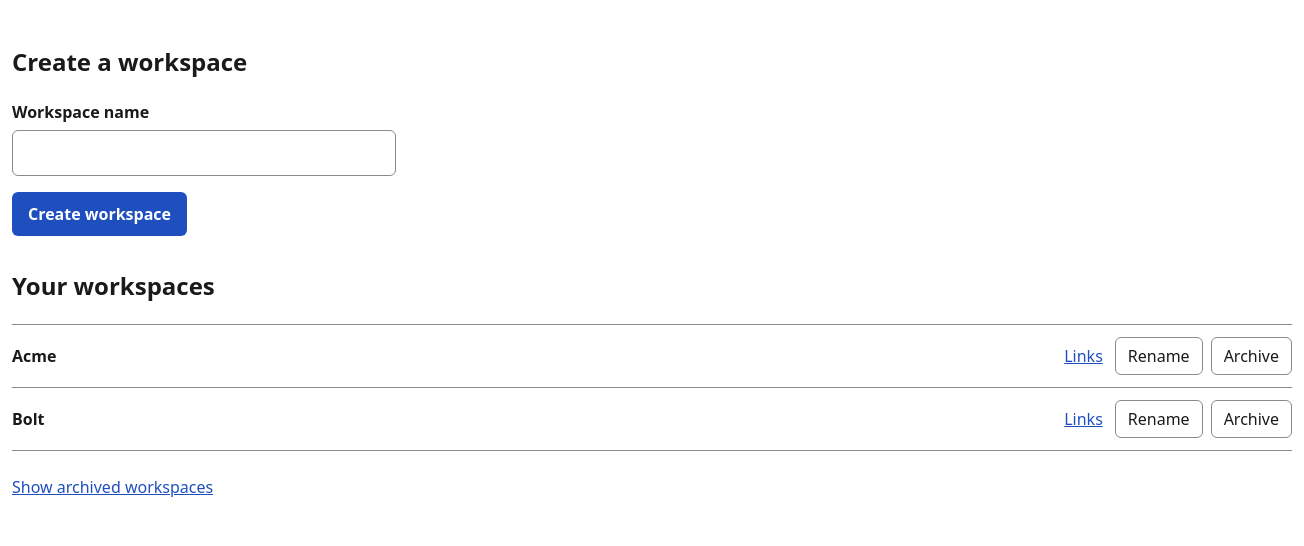
Test case: workspace list: create validation › a server validation_failed keyed under name lands under the field and adds nothing
The width and height of the screenshot is (1304, 546).
Type "Acme Two" into the field labelled "Workspace name".
click(204, 153); type("Acme Two")  # box [12,130,396,176]
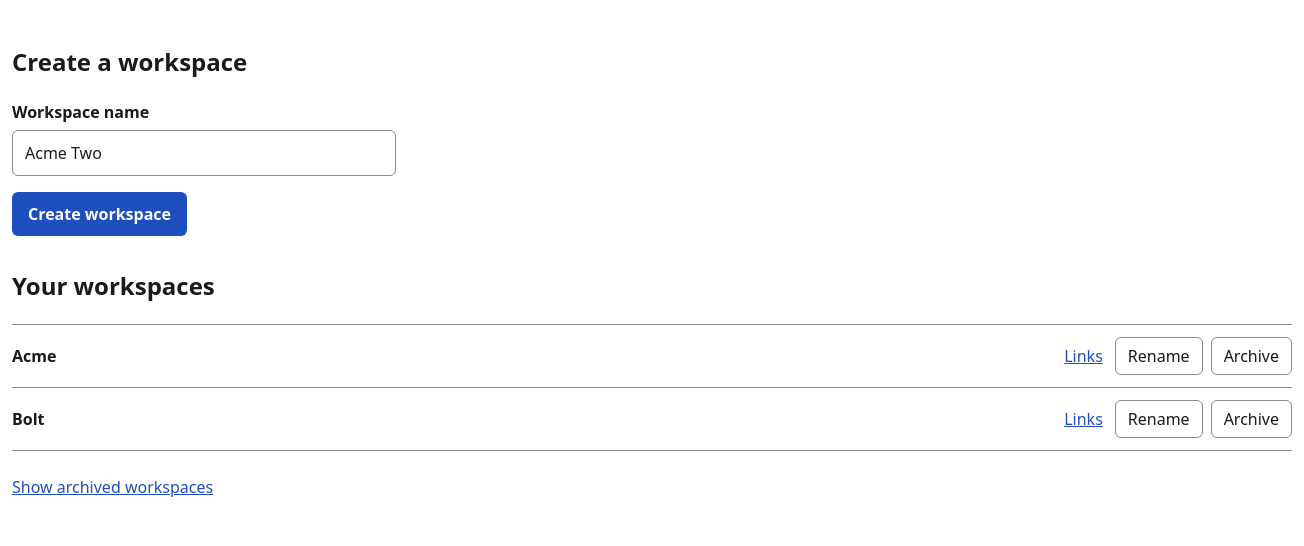
Click the button "Create workspace".
click(100, 214)  # box [12,192,187,236]
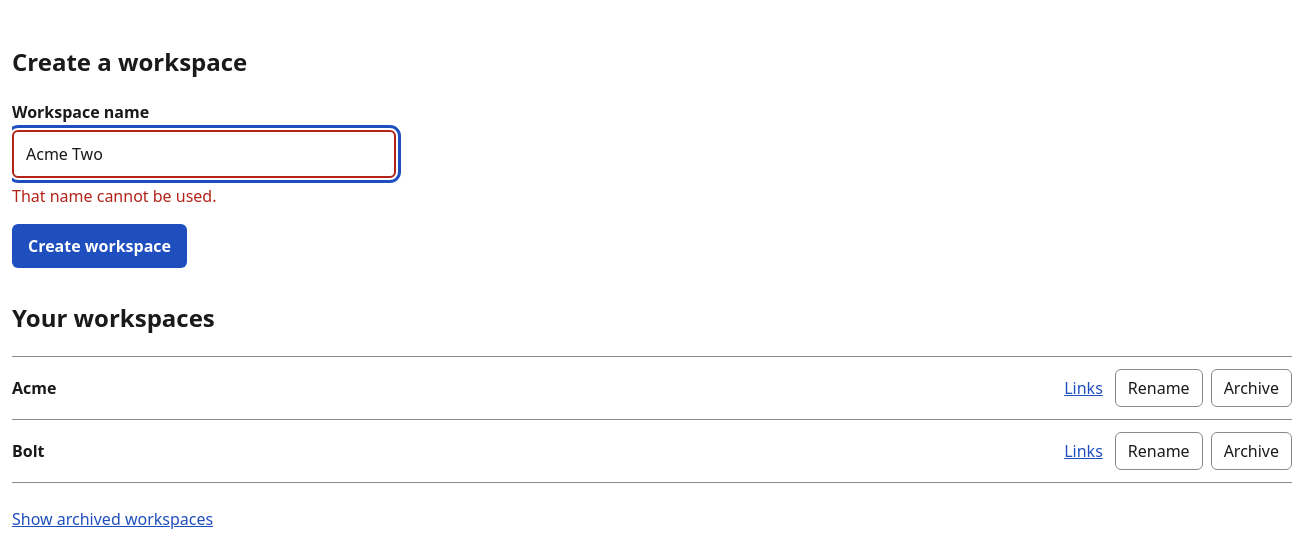
Expected: the number of list items is 2, [12,357,1292,420]; [12,420,1292,483]
Result: the text "That name cannot be used." is shown at [12,185,216,207]
